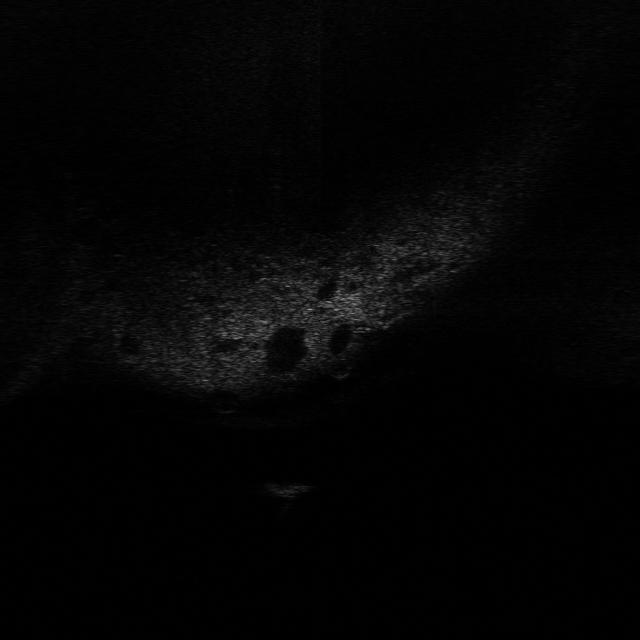ball: (324, 357, 354, 382)
cube: (254, 478, 316, 499)
